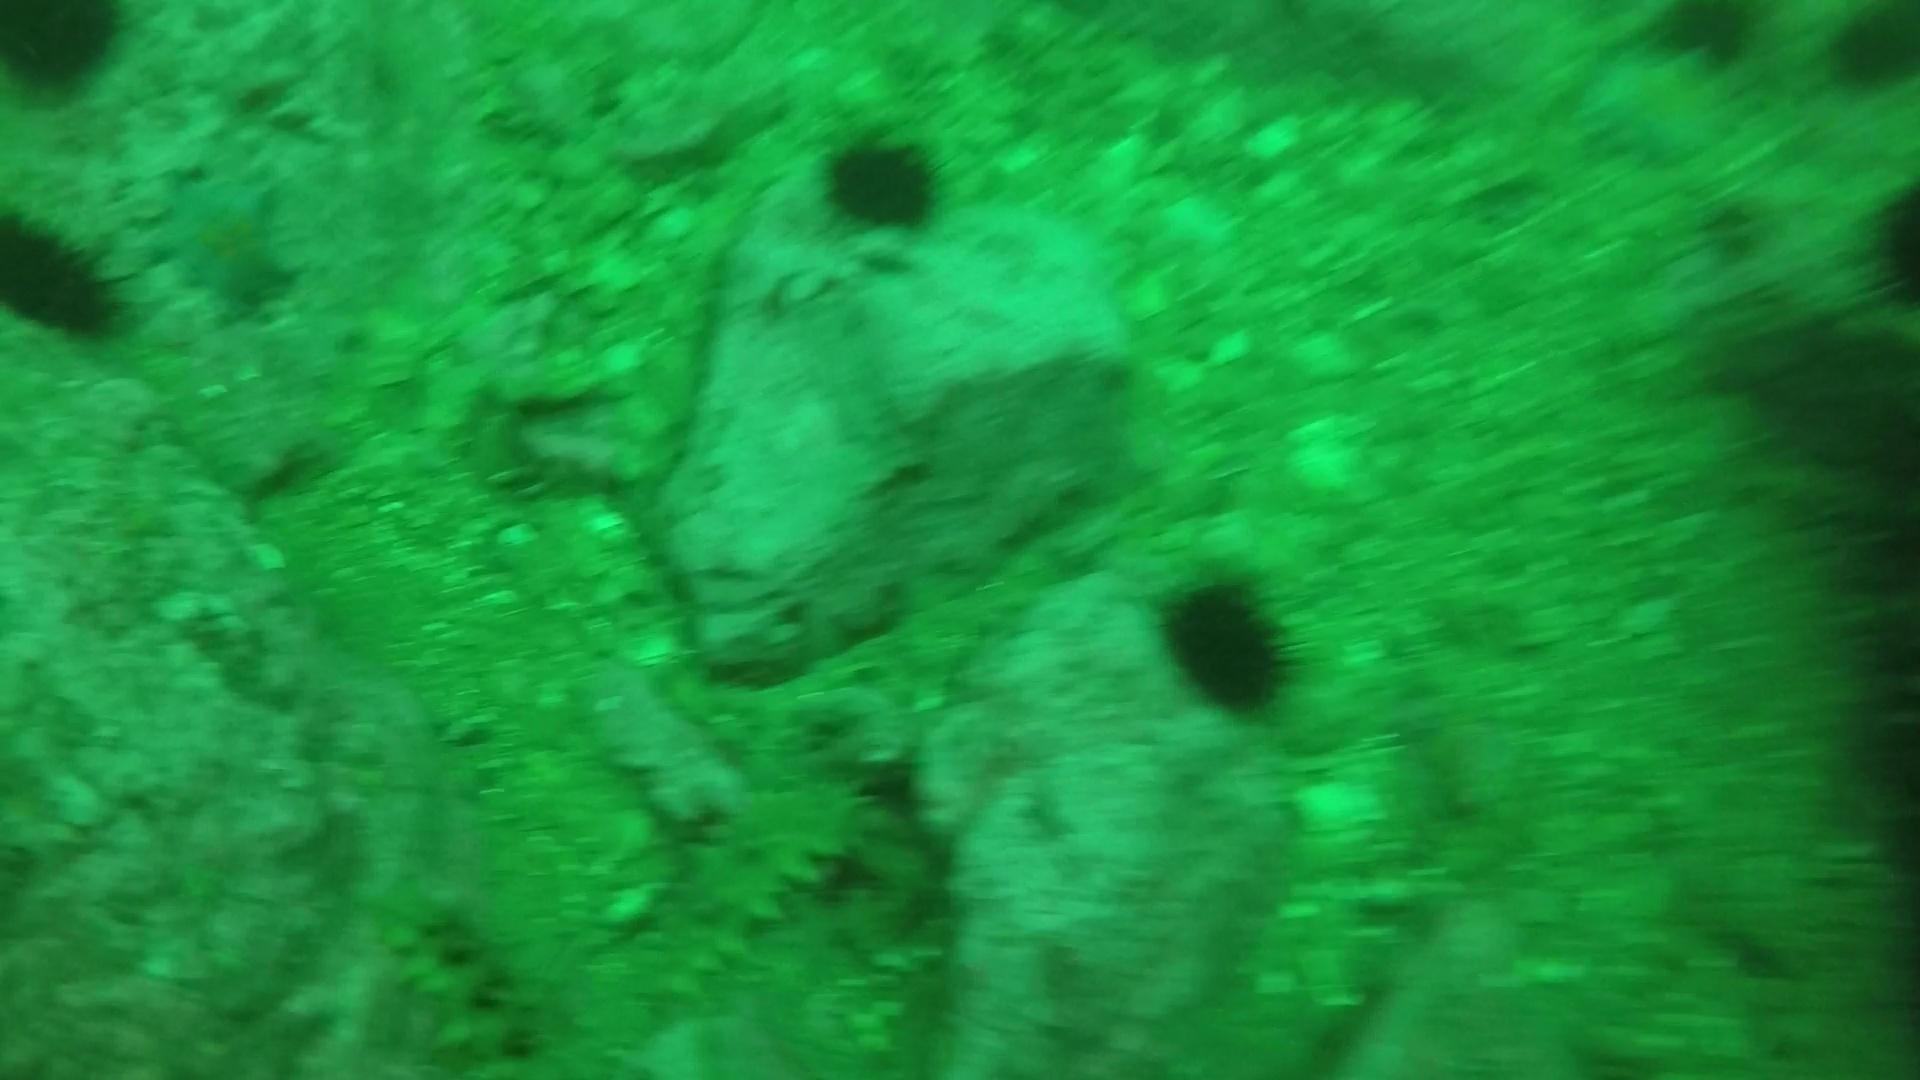echinus: (1150, 567, 1307, 723), (1, 199, 136, 348), (814, 125, 949, 241), (1, 1, 135, 107), (1642, 1, 1771, 75), (1821, 1, 1919, 98), (1853, 177, 1920, 315)
holothurian: (629, 775, 884, 1007), (344, 849, 597, 1080)
starfish: (142, 164, 309, 318), (1572, 41, 1738, 167)
